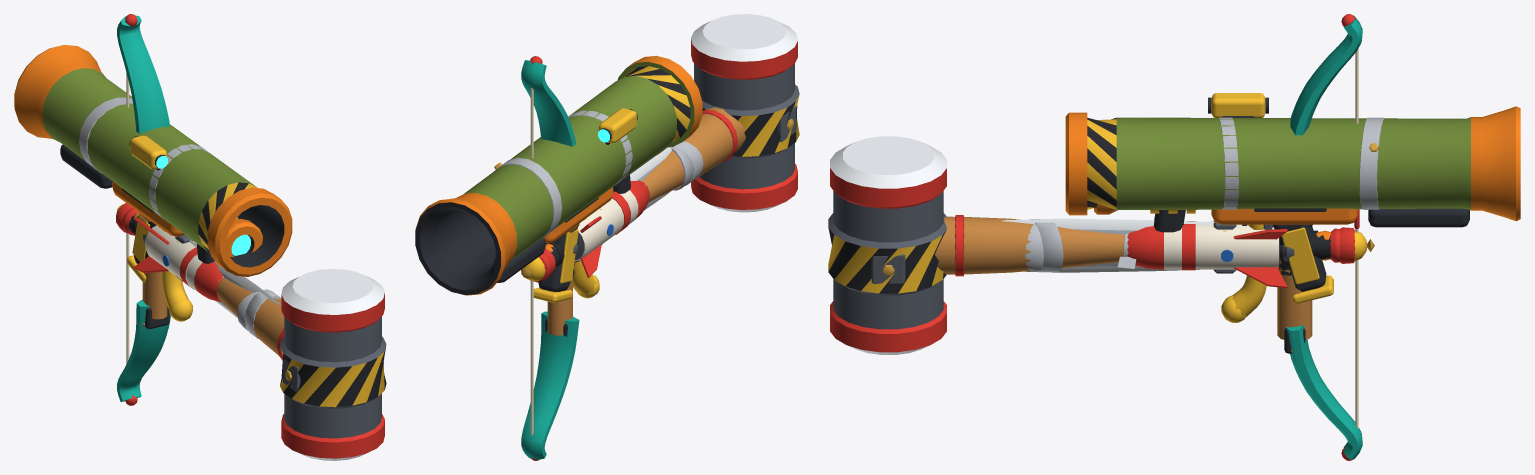
Rendered from weapons.glb.
3 views of the same model, side by side, from view 1: azimuth 30°, elevation 25°; view 2: azimuth 150°, elevation 25°; view 3: azimuth 270°, elevation 25° (orthographic). The views are drawn at different scales.
Parts seen in each view (by area): view 1: RocketLauncher, Hammer, Bow, Rocket, Bat, Blaster, Sword; view 2: RocketLauncher, Hammer, Bow, Bat, Rocket, Blaster, Sword; view 3: RocketLauncher, Hammer, Bat, Bow, Rocket, Blaster, Sword.
Boxes of the visible parts, x1,y1,x2,y2 form: RocketLauncher: [14, 45, 292, 276]; Hammer: [116, 203, 386, 460]; Bow: [117, 14, 170, 405]; Rocket: [133, 217, 224, 301]; Bat: [122, 207, 284, 360]; Blaster: [112, 181, 262, 282]; Sword: [116, 203, 281, 321]; RocketLauncher: [415, 55, 702, 295]; Hammer: [534, 14, 799, 282]; Bow: [521, 56, 579, 460]; Bat: [544, 107, 745, 272]; Rocket: [573, 180, 649, 277]; Blaster: [533, 146, 668, 302]; Sword: [521, 147, 671, 298]; RocketLauncher: [1065, 93, 1520, 232]; Hammer: [828, 136, 1355, 354]; Bat: [935, 215, 1340, 276]; Bow: [1277, 14, 1362, 460]; Rocket: [1127, 221, 1294, 288]; Blaster: [1094, 204, 1357, 303]; Sword: [1002, 218, 1374, 322].
Size of the model in its own units: 0.1072 by 0.4356 by 0.6133.
